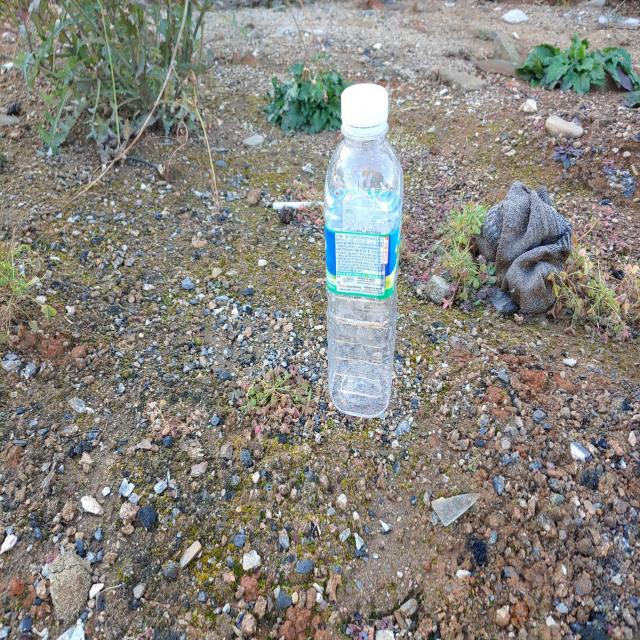plastic: (324, 82, 404, 418)
